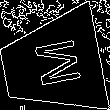M_W: (23, 37, 81, 92)
